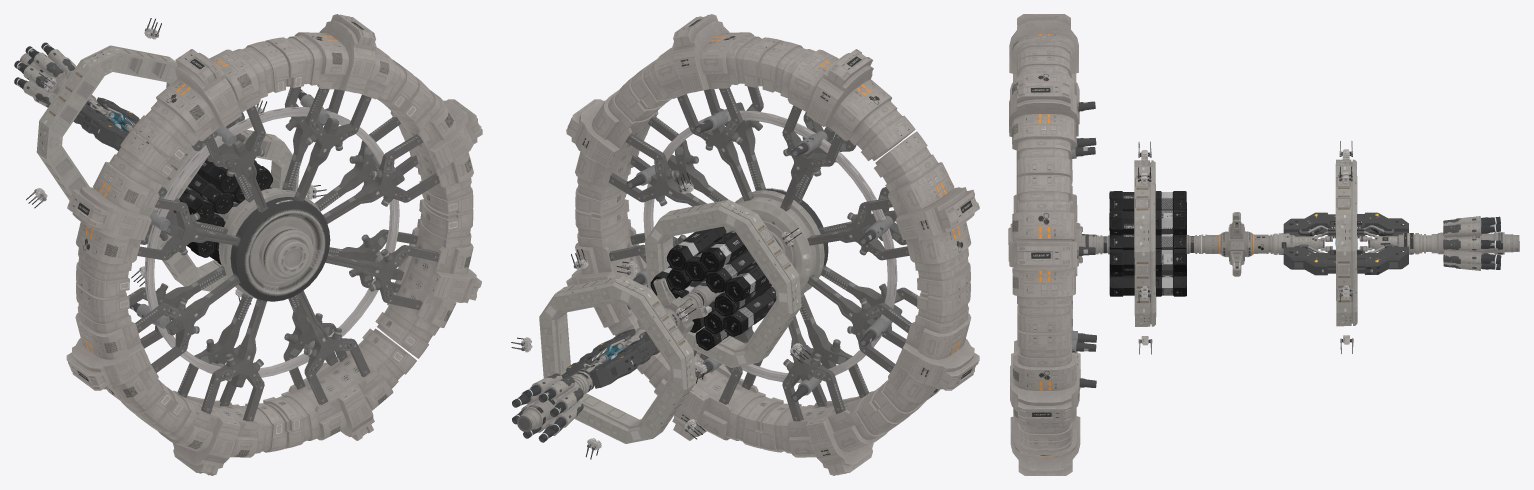
The model's file is station.glb.
3 renders of one model, left to right at view 1: azimuth 30°, elevation 25°; view 2: azimuth 150°, elevation 25°; view 3: azimuth 270°, elevation 25°, orthographic. The views are drawn at different scales.
Parts seen in each view (by area): view 1: defaultMaterial (×11); view 2: defaultMaterial (×14); view 3: defaultMaterial (×13).
Part boxes in pixels (x1,y1,x2,y2): defaultMaterial (×11): (14, 14, 482, 475); defaultMaterial (×14): (511, 14, 979, 475); defaultMaterial (×13): (1009, 14, 1519, 475).
Size of what is drawn, in the model's own units: 1.7 by 1.7 by 2.
22 materials, 22 textured.
